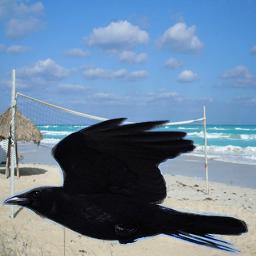Crow: (2, 117, 250, 255)
